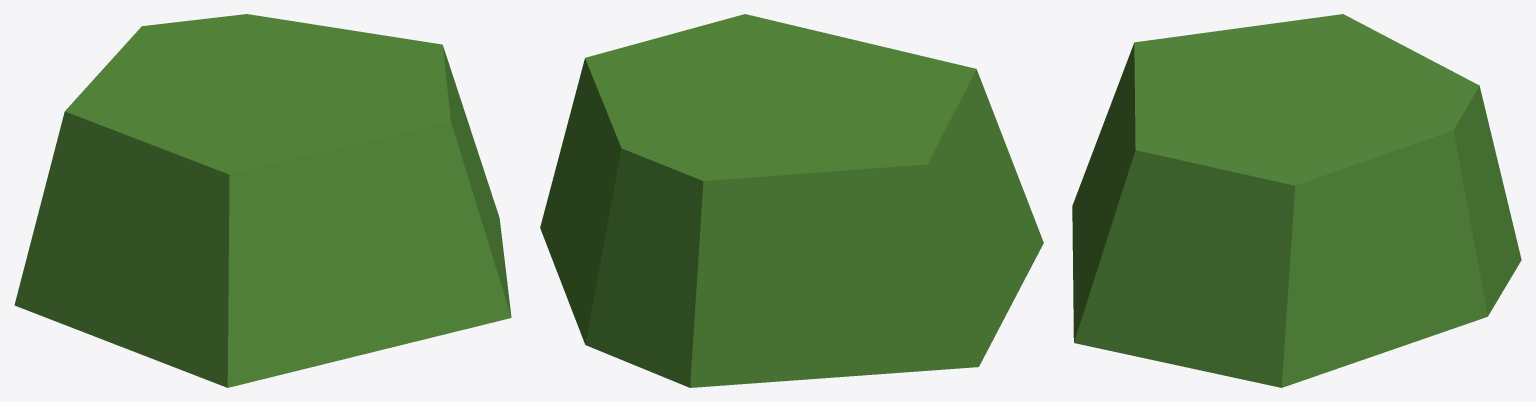
The model's file is grass_layer_crumb_mini_D.fbx.
The picture shows the model from 3 angles, left to right: view 1: azimuth 30°, elevation 25°; view 2: azimuth 150°, elevation 25°; view 3: azimuth 270°, elevation 25°; orthographic projection. The views are drawn at different scales.
Visible parts, largest first — view 1: grass_layer_crumb_mini_D; view 2: grass_layer_crumb_mini_D; view 3: grass_layer_crumb_mini_D.
Part boxes in pixels (left/top/right/bottom): grass_layer_crumb_mini_D: left=14, top=14, right=511, bottom=387; grass_layer_crumb_mini_D: left=540, top=14, right=1043, bottom=387; grass_layer_crumb_mini_D: left=1072, top=14, right=1521, bottom=387.
Size of the model in its own units: 44.5 by 17.09 by 38.72.
